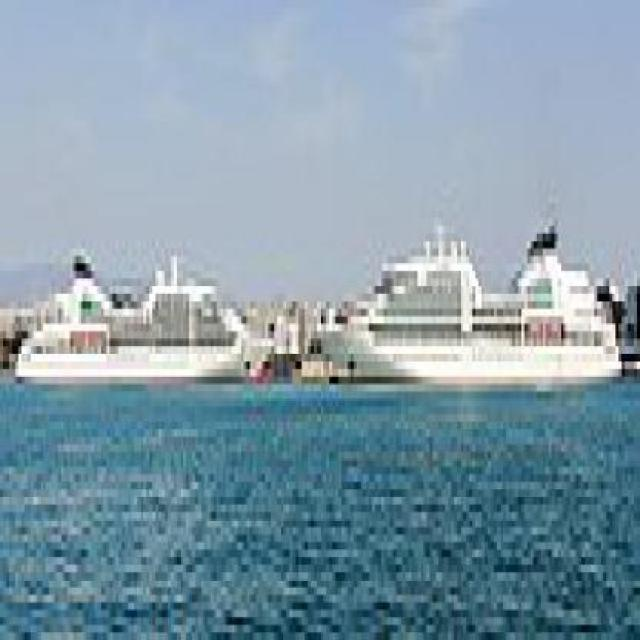cruise: (315, 205, 632, 400), (10, 234, 261, 400)
